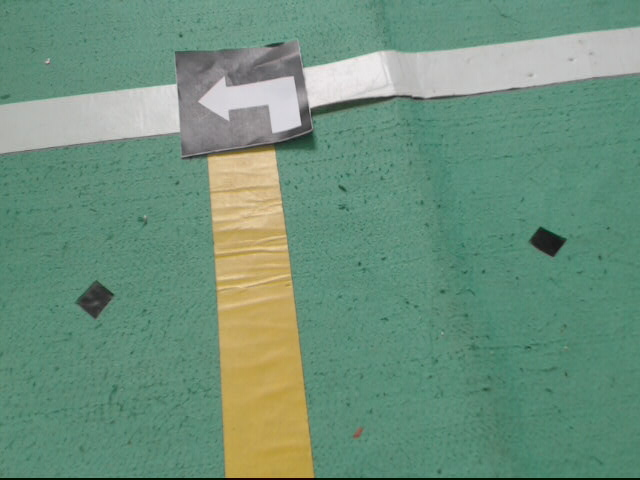left: (173, 39, 313, 158)
